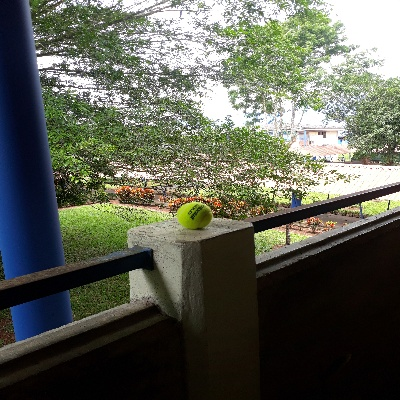Ball: (177, 202, 208, 228)
